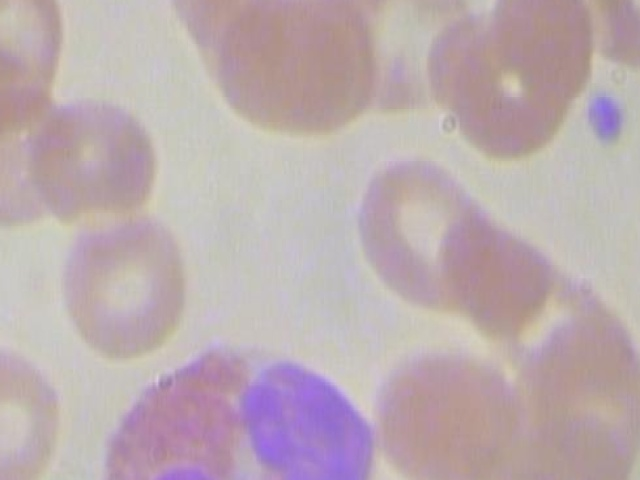Platelets: (575, 81, 635, 155)
RBC: (354, 148, 499, 316), (51, 197, 196, 365), (367, 330, 528, 480), (217, 0, 378, 144), (29, 86, 165, 228), (0, 340, 67, 480), (0, 0, 79, 118), (575, 0, 640, 70)
WBC: (87, 322, 382, 480)
